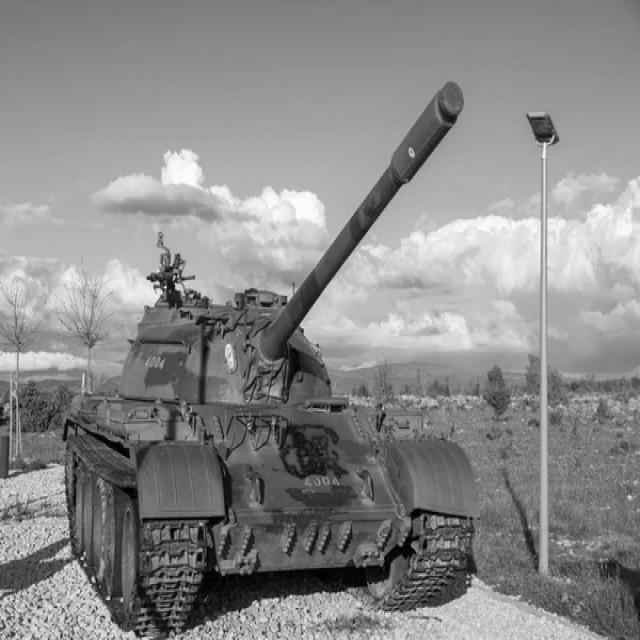Pole: (517, 100, 563, 579)
Tank: (61, 55, 494, 628)
